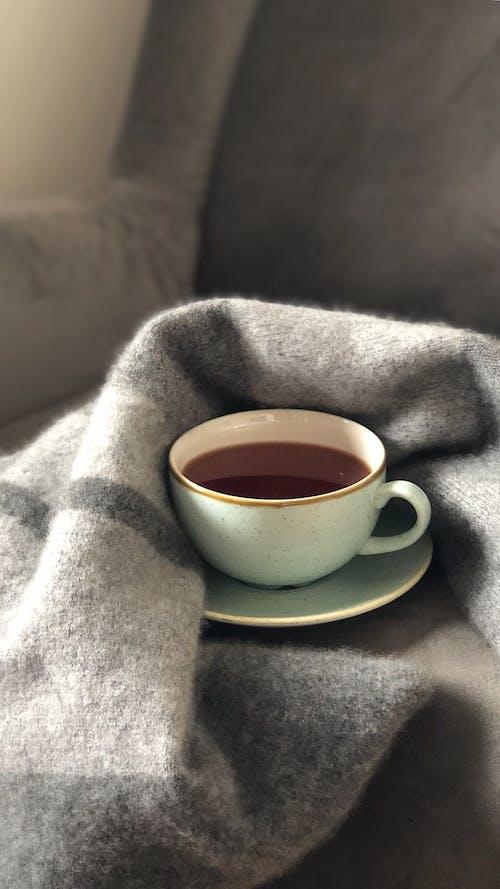Mug: (116, 296, 448, 669)
